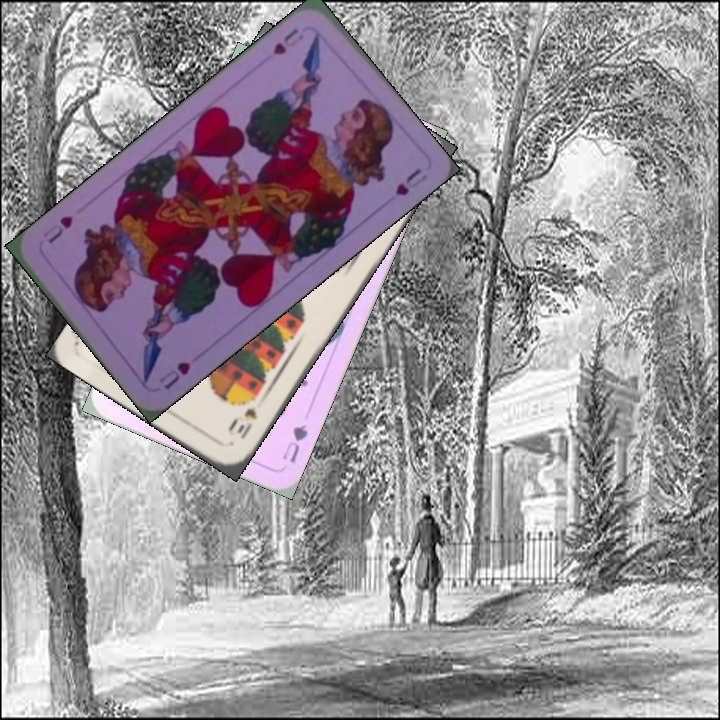GU: (278, 420, 311, 466)
HU: (155, 357, 193, 392), (268, 24, 307, 58)
S10: (225, 403, 260, 442)
